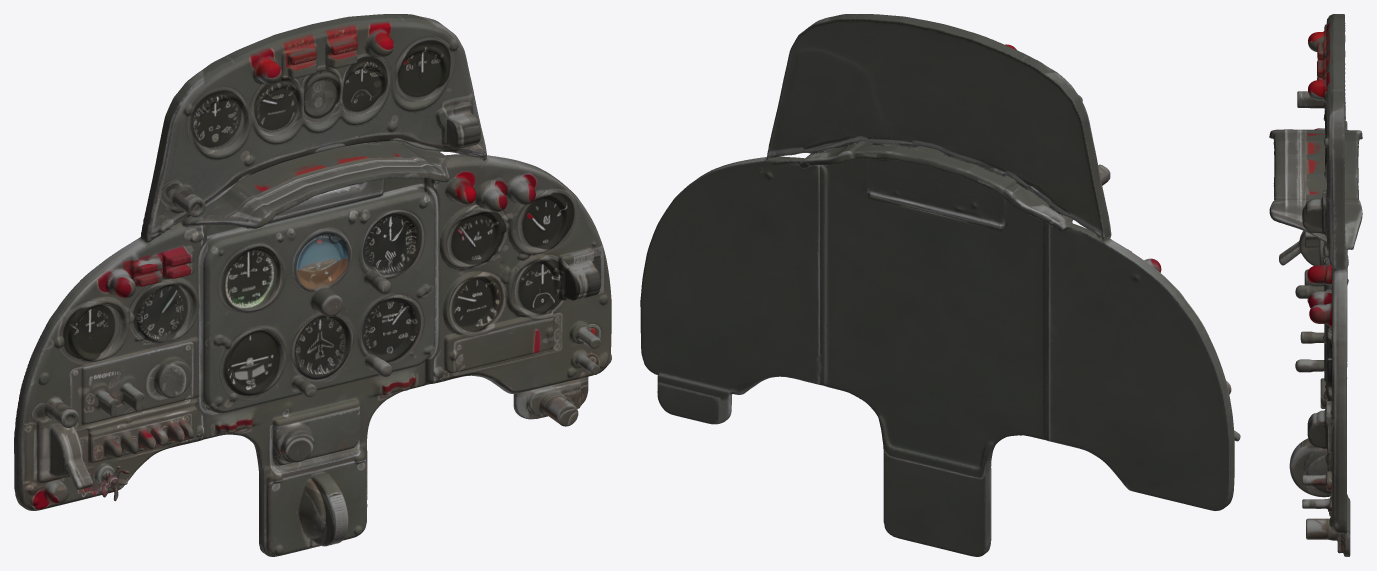
File: tripo_convert_dcde1737-0c68-4c30-9ccc-71bb53b1ab59.fbx
3 views of the same model, side by side, from view 1: azimuth 30°, elevation 25°; view 2: azimuth 150°, elevation 25°; view 3: azimuth 270°, elevation 25° (orthographic). The views are drawn at different scales.
Parts seen in each view (by area): view 1: tripo_node_dcde1737; view 2: tripo_node_dcde1737; view 3: tripo_node_dcde1737.
Part boxes in pixels (x1,y1,x2,y2): tripo_node_dcde1737: [14, 14, 611, 556]; tripo_node_dcde1737: [640, 14, 1240, 556]; tripo_node_dcde1737: [1269, 14, 1362, 556].
Bounding box in the file's own units: 1 × 0.8391 × 0.1539.
1 material, 1 textured.
